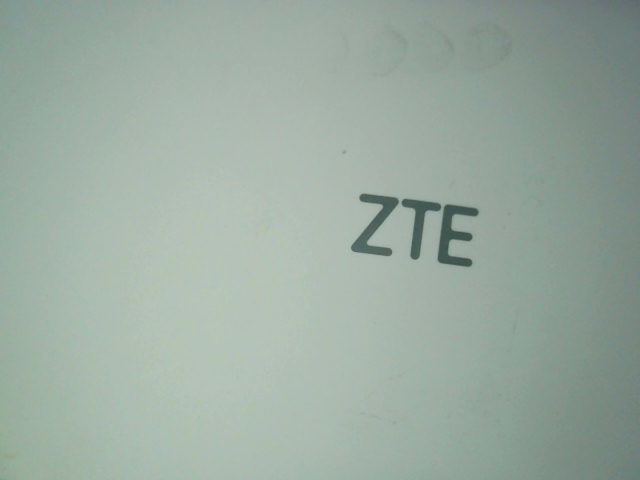AN_ZTE: (343, 181, 488, 274)
